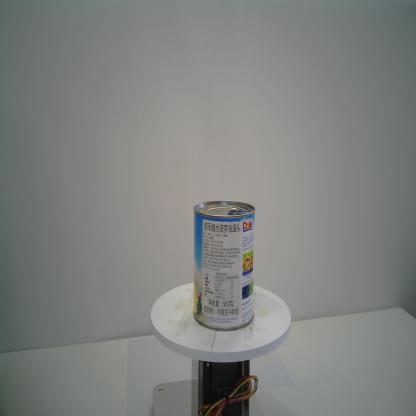Canned Food: (193, 200, 256, 332)
